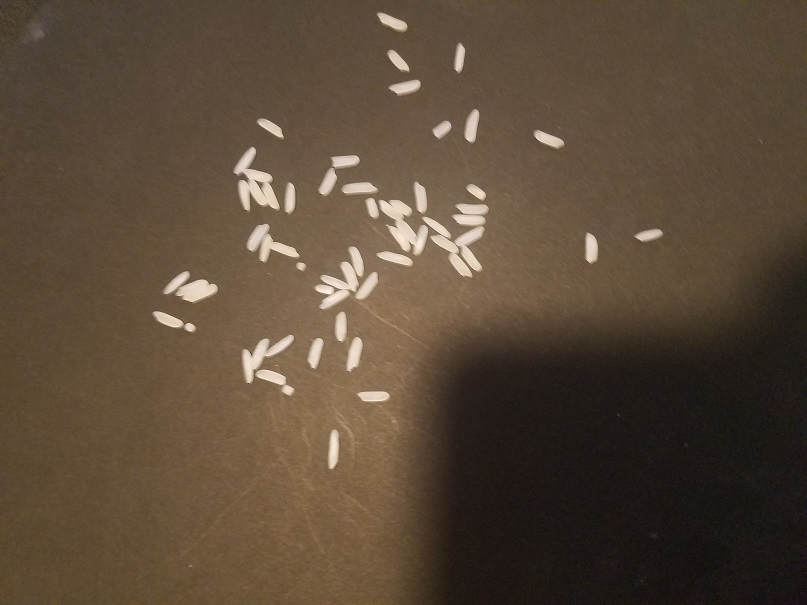egg: (260, 330, 298, 357), (353, 271, 384, 303), (375, 8, 409, 34), (386, 222, 413, 254), (377, 248, 418, 269), (347, 247, 370, 284), (231, 145, 260, 174), (171, 277, 211, 298), (244, 220, 268, 255), (317, 289, 351, 313), (161, 269, 189, 298), (150, 307, 186, 329), (448, 251, 475, 280), (304, 335, 327, 369), (255, 114, 285, 140), (462, 106, 482, 145), (343, 338, 365, 373), (531, 127, 566, 149), (245, 177, 268, 210), (316, 167, 339, 199), (420, 216, 453, 238), (320, 272, 356, 291), (387, 80, 425, 98), (459, 244, 484, 271), (250, 336, 271, 368), (269, 239, 303, 258), (431, 234, 463, 254), (396, 218, 417, 248), (254, 367, 287, 386), (186, 284, 219, 303), (455, 226, 486, 246), (263, 181, 283, 211), (342, 261, 361, 292), (233, 179, 252, 210), (634, 226, 666, 244), (328, 426, 341, 470), (283, 179, 298, 217), (451, 39, 466, 77), (330, 152, 361, 170), (377, 198, 402, 220), (386, 50, 412, 71), (258, 232, 275, 264), (241, 347, 255, 385), (340, 181, 378, 195), (390, 193, 412, 217), (430, 120, 454, 142), (586, 231, 601, 266), (413, 181, 429, 213), (334, 310, 349, 342), (413, 222, 429, 252), (238, 166, 272, 180), (465, 181, 488, 201), (456, 202, 490, 215), (451, 214, 487, 226), (353, 391, 392, 402), (365, 195, 380, 221), (314, 282, 332, 295), (294, 259, 308, 274), (282, 385, 296, 395), (185, 321, 195, 334)
